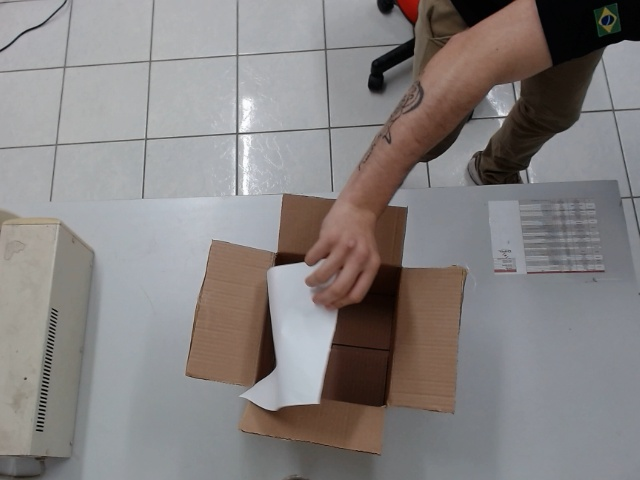caixa_principal: (248, 239, 407, 413)
